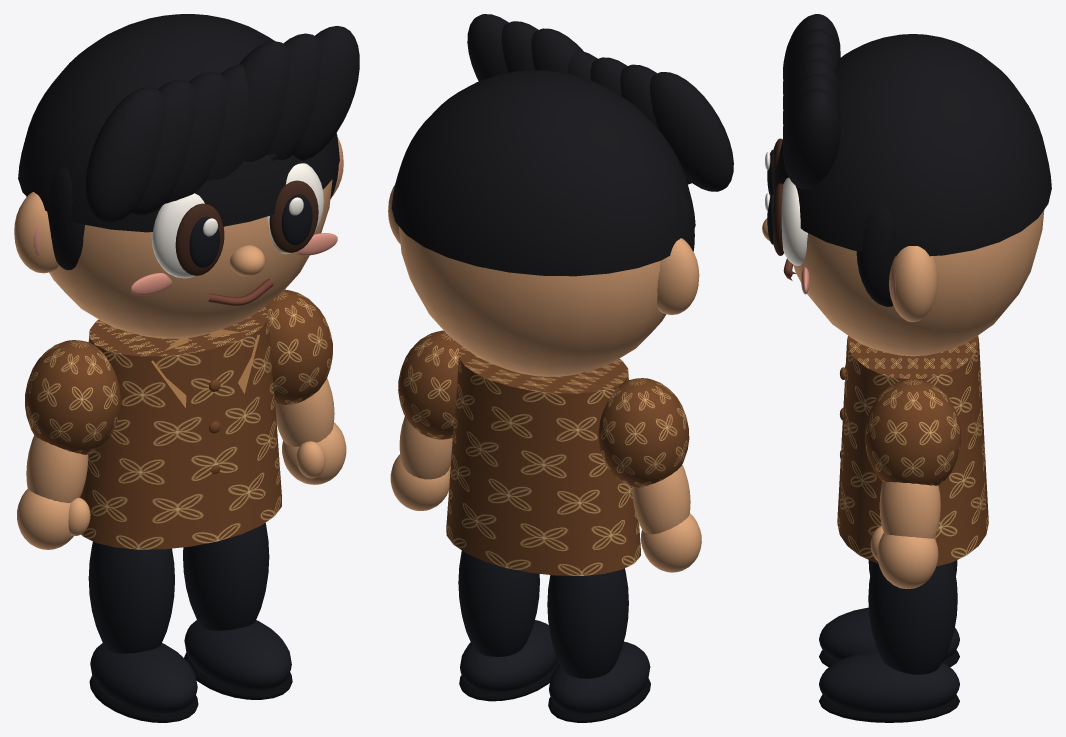
Rendered from batik-chibi.glb.
3 views of the same model, side by side, from view 1: azimuth 30°, elevation 25°; view 2: azimuth 150°, elevation 25°; view 3: azimuth 270°, elevation 25° (orthographic). The views are drawn at different scales.
Visible parts, largest first — view 1: Brown batik shirt, Side swept fringe (×7), Black hair cap, Face, Black trouser leg (×2), Batik short sleeve (×2), Black shoe (×2), Forearm (×2), Hand (×2), Brown eye (×2), Eye white (×2), Left sideburn (+8 smaller); view 2: Black hair cap, Brown batik shirt, Face, Side swept fringe (×7), Black trouser leg (×2), Batik short sleeve (×2), Black shoe (×2), Forearm (×2), Hand (×2), Ear, Shoe sole (×2); view 3: Black hair cap, Brown batik shirt, Face, Side swept fringe (×6), Black shoe (×2), Batik short sleeve, Black trouser leg, Forearm, Ear, Hand, Right sideburn, Eye white (+2 smaller).
Part boxes in pixels (x1,y1,x2,y2): Brown batik shirt: [80, 307, 281, 549]; Side swept fringe (×7): [85, 26, 359, 223]; Black hair cap: [18, 14, 339, 232]; Face: [26, 179, 332, 338]; Black trouser leg (×2): [88, 523, 269, 653]; Batik short sleeve (×2): [25, 289, 332, 454]; Black shoe (×2): [90, 620, 291, 713]; Forearm (×2): [26, 378, 334, 502]; Hand (×2): [17, 422, 346, 549]; Brown eye (×2): [175, 180, 318, 275]; Eye white (×2): [151, 163, 323, 278]; Left sideburn: [47, 167, 84, 270]; Black hair cap: [391, 70, 695, 276]; Brown batik shirt: [446, 346, 640, 575]; Face: [398, 226, 666, 376]; Side swept fringe (×7): [467, 14, 733, 191]; Black trouser leg (×2): [458, 551, 628, 678]; Batik short sleeve (×2): [398, 330, 689, 487]; Black shoe (×2): [460, 620, 650, 713]; Forearm (×2): [399, 416, 690, 534]; Hand (×2): [390, 454, 701, 572]; Ear: [657, 238, 699, 314]; Shoe sole (×2): [459, 660, 650, 722]; Black hair cap: [774, 34, 1051, 256]; Brown batik shirt: [837, 335, 988, 566]; Face: [793, 210, 1044, 356]; Side swept fringe (×6): [783, 14, 840, 189]; Black shoe (×2): [819, 607, 959, 713]; Batik short sleeve: [864, 379, 961, 485]; Black trouser leg: [868, 562, 957, 674]; Forearm: [879, 482, 940, 538]; Ear: [889, 246, 937, 321]; Hand: [877, 533, 938, 588]; Right sideburn: [856, 206, 895, 306]; Eye white: [781, 177, 807, 265].
Size of the model in its own units: 1.55 by 3.04 by 1.23.
19 materials, 1 textured.
